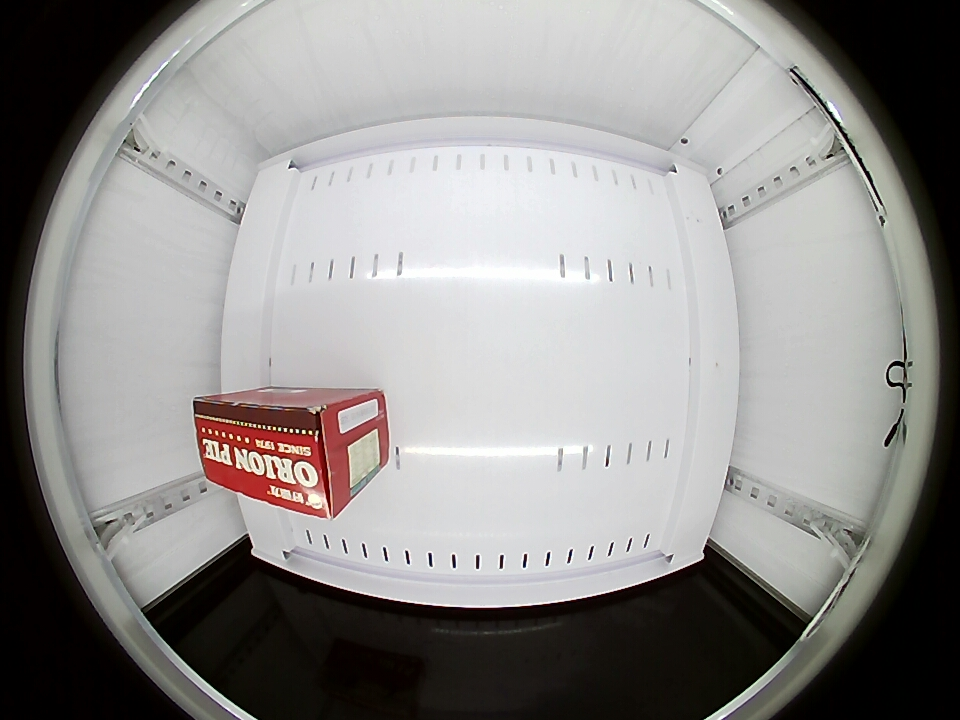haoliyou: (191, 391, 359, 519)
